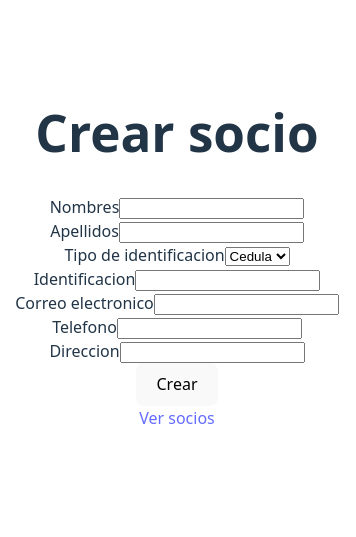
Test: Register - Crear socio › valida RUC (13 dígitos)
Select "Ruc" in the dropdown with test id "input-tipoIdentificacion" at (258, 257), box [225,247,290,266]
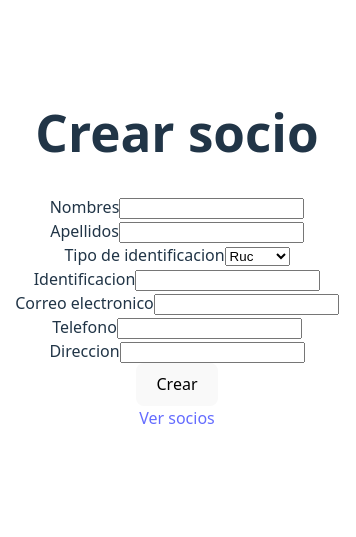
Type "123" into the field with test id "input-identificacion" at (228, 281), box [135,270,320,291]
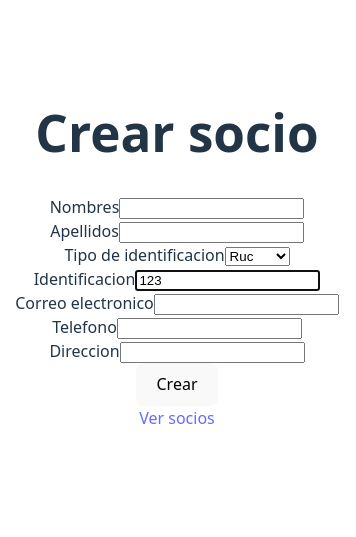
Click the button "Crear" at (177, 385), box [136,363,217,406]
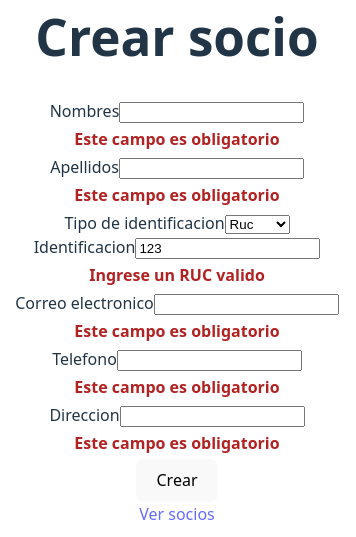
Expected: the text with test id "error-identificacion" reads "Ingrese un RUC valido", [89,264,265,286]
